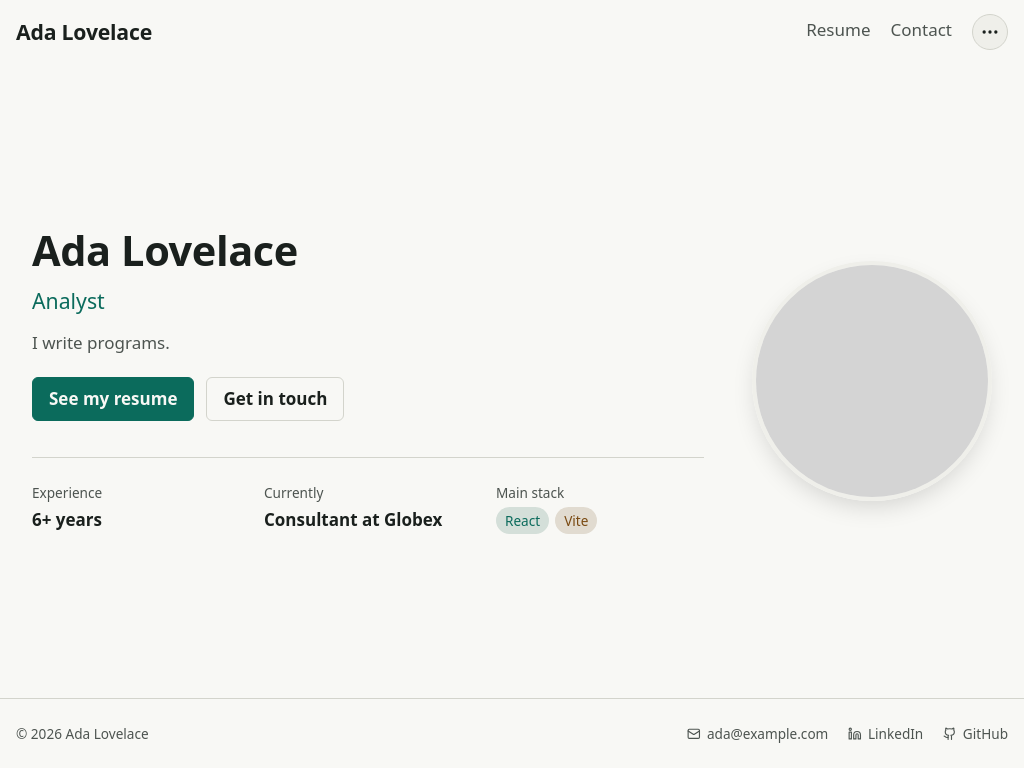
AppRoutes › goes to the contact page from the navigation
Click the link "Contact" at (921, 31), box [890,13,952,50]
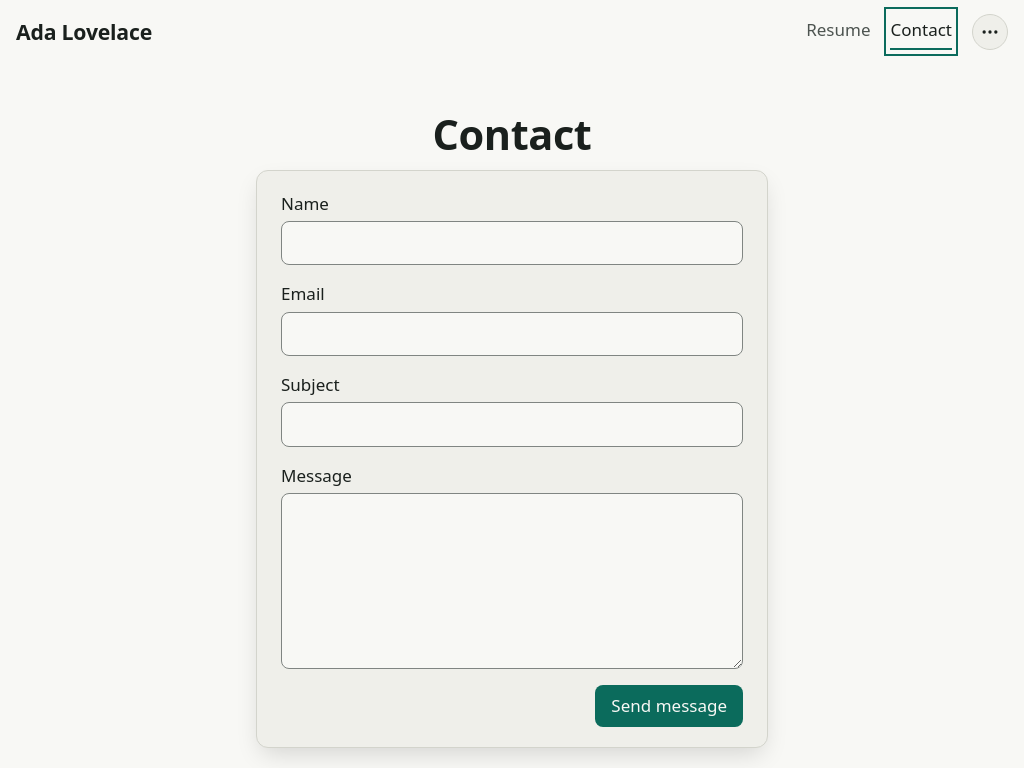
Expected: the heading "Contact" is shown, [432,112,591,158]
